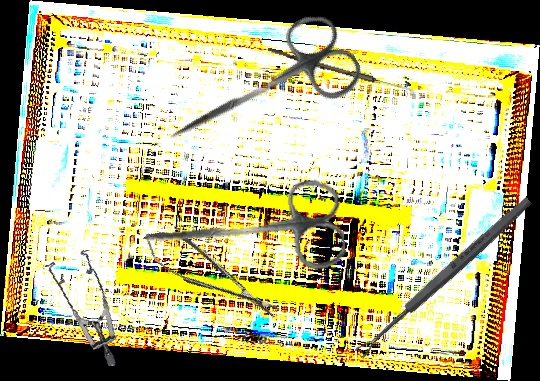Iris Scissors: (151, 5, 369, 179), (141, 175, 348, 288)
Micro Scissor: (136, 218, 285, 333)
Speculum: (29, 243, 135, 367)
Surgical Spoon: (353, 194, 534, 360), (266, 47, 415, 94)
